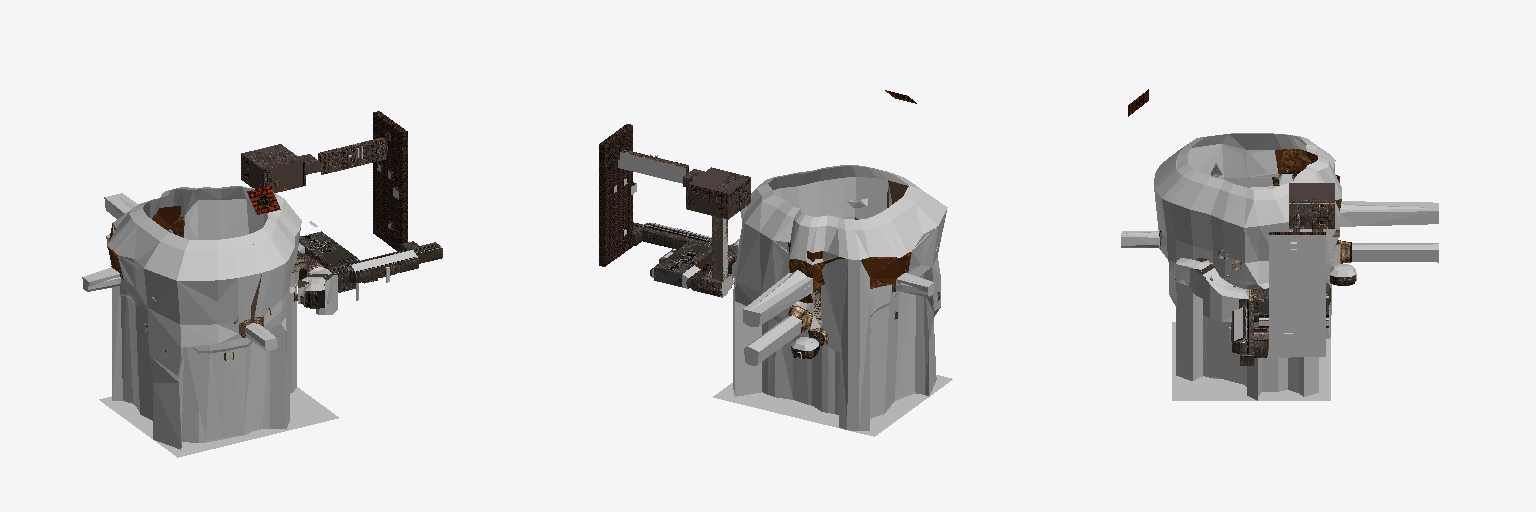
3 views of the same model, side by side, from view 1: azimuth 30°, elevation 25°; view 2: azimuth 150°, elevation 25°; view 3: azimuth 270°, elevation 25° (orthographic).
Parts seen in each view (by area): view 1: #Room0#IndoorEnv01#_Room0#NoCollision_RocKWall., Opt.Opt#Room0#_CollisionCube#NoMesh_CliffStone2., #Room0#IndoorEnv01#_Room0#NoCollision_Wall., Opt.Opt#Room0#_CollisionCube#NoMesh_CliffStone3., #Room5#_Room5#Camera2#Stone.004_Brick2., Opt.Opt#Room0#_CollisionCube#NoMesh_RockWithLace., #Room0#IndoorEnv01#_Grass#NoCollision_Grass., Opt.Opt#Room0#_CollisionCube#NoMesh_Wall., Opt.Opt#Room0#_CollisionCube#NoMesh_Stone.001., #Room5#_Room5#Camera2#Stone.002_Brick2., #Room8#IndoorEnv03#_Room8#Stone_IronWall., #Room0#IndoorEnv01#_Void#IndoorEnv01#Void.002_BlackColor. (+13 smaller); view 2: #Room0#IndoorEnv01#_Room0#NoCollision_RocKWall., Opt.Opt#Room0#_CollisionCube#NoMesh_RockWithLace., Opt.Opt#Room0#_CollisionCube#NoMesh_CliffStone2., Opt.Opt#Room0#_CollisionCube#NoMesh_CliffStone., Opt.Opt#Room0#_CollisionCube#NoMesh_CliffStone3., #Room0#IndoorEnv01#_Room0#NoCollision_Wall., #Room0#IndoorEnv01#_Grass#NoCollision_Grass., #Room5#_Room5#Camera2#Stone.004_Brick2., #Room0#IndoorEnv01#_Room0#NoCollision_WetDirt., Opt.Opt#Room0#_CollisionCube#NoMesh_WetDirt., Opt.Opt#Room0#_CollisionCube#NoMesh_RocKWall., #Room5#_Room5#Camera2#Stone.002_Brick2. (+17 smaller); view 3: #Room0#IndoorEnv01#_Room0#NoCollision_RocKWall., #Room0#IndoorEnv01#_Room0#NoCollision_Wall., #Room5#_Room5#Camera2#Stone_Cliff., Opt.Opt#Room0#_CollisionCube#NoMesh_WetDirt., Opt.Opt#Room0#_CollisionCube#NoMesh_CliffStone2., #Room0#IndoorEnv01#_Room0#NoCollision_Stone.001., #Room0#IndoorEnv01#_Room0#NoCollision_WetDirt., #Room0#IndoorEnv01#_Grass#NoCollision_Grass., #Room0#IndoorEnv01#_Room0#NoCollision_RockWithLace., #Room0#IndoorEnv01#_Void#IndoorEnv01#Void.002_BlackColor., #Room0#IndoorEnv01#_Void#IndoorEnv01#Void_BlackColor., Opt.Opt#Room0#_CollisionCube#NoMesh_CliffStone. (+8 smaller).
Boxes of the visible parts, <box> form: #Room0#IndoorEnv01#_Room0#NoCollision_RocKWall.: <box>108,187,301,347</box>; Opt.Opt#Room0#_CollisionCube#NoMesh_CliffStone2.: <box>112,286,286,437</box>; #Room0#IndoorEnv01#_Room0#NoCollision_Wall.: <box>118,199,301,351</box>; Opt.Opt#Room0#_CollisionCube#NoMesh_CliffStone3.: <box>136,302,226,443</box>; #Room5#_Room5#Camera2#Stone.004_Brick2.: <box>373,152,401,250</box>; Opt.Opt#Room0#_CollisionCube#NoMesh_RockWithLace.: <box>113,226,289,428</box>; #Room0#IndoorEnv01#_Grass#NoCollision_Grass.: <box>129,186,283,250</box>; Opt.Opt#Room0#_CollisionCube#NoMesh_Wall.: <box>118,255,277,345</box>; Opt.Opt#Room0#_CollisionCube#NoMesh_Stone.001.: <box>153,303,296,447</box>; #Room5#_Room5#Camera2#Stone.002_Brick2.: <box>373,111,407,243</box>; #Room8#IndoorEnv03#_Room8#Stone_IronWall.: <box>318,137,387,174</box>; #Room0#IndoorEnv01#_Void#IndoorEnv01#Void.002_BlackColor.: <box>252,387,338,437</box>; #Room0#IndoorEnv01#_Room0#NoCollision_RocKWall.: <box>732,166,947,332</box>; Opt.Opt#Room0#_CollisionCube#NoMesh_RockWithLace.: <box>734,218,920,428</box>; Opt.Opt#Room0#_CollisionCube#NoMesh_CliffStone2.: <box>776,273,933,417</box>; Opt.Opt#Room0#_CollisionCube#NoMesh_CliffStone.: <box>735,267,940,398</box>; Opt.Opt#Room0#_CollisionCube#NoMesh_CliffStone3.: <box>775,292,899,411</box>; #Room0#IndoorEnv01#_Room0#NoCollision_Wall.: <box>740,177,934,365</box>; #Room0#IndoorEnv01#_Grass#NoCollision_Grass.: <box>756,165,921,230</box>; #Room5#_Room5#Camera2#Stone.004_Brick2.: <box>605,165,635,266</box>; #Room0#IndoorEnv01#_Room0#NoCollision_WetDirt.: <box>743,270,933,363</box>; Opt.Opt#Room0#_CollisionCube#NoMesh_WetDirt.: <box>743,273,934,349</box>; Opt.Opt#Room0#_CollisionCube#NoMesh_RocKWall.: <box>733,177,887,317</box>; #Room5#_Room5#Camera2#Stone.002_Brick2.: <box>599,124,632,266</box>; #Room0#IndoorEnv01#_Room0#NoCollision_RocKWall.: <box>1154,134,1341,289</box>; #Room0#IndoorEnv01#_Room0#NoCollision_Wall.: <box>1162,144,1292,307</box>; #Room5#_Room5#Camera2#Stone_Cliff.: <box>1269,250,1325,355</box>; Opt.Opt#Room0#_CollisionCube#NoMesh_WetDirt.: <box>1121,176,1438,245</box>; Opt.Opt#Room0#_CollisionCube#NoMesh_CliffStone2.: <box>1193,277,1329,385</box>; #Room0#IndoorEnv01#_Room0#NoCollision_Stone.001.: <box>1176,282,1330,400</box>; #Room0#IndoorEnv01#_Room0#NoCollision_WetDirt.: <box>1121,203,1438,261</box>; #Room0#IndoorEnv01#_Grass#NoCollision_Grass.: <box>1177,133,1328,200</box>; #Room0#IndoorEnv01#_Room0#NoCollision_RockWithLace.: <box>1161,178,1272,283</box>; #Room0#IndoorEnv01#_Void#IndoorEnv01#Void.002_BlackColor.: <box>1172,361,1258,400</box>; #Room0#IndoorEnv01#_Void#IndoorEnv01#Void_BlackColor.: <box>1259,361,1330,400</box>; Opt.Opt#Room0#_CollisionCube#NoMesh_CliffStone.: <box>1197,296,1277,391</box>.
Bounding box in the file's own units: 6552 × 4904 × 5409.
Materials: 66 (25 with a texture image).